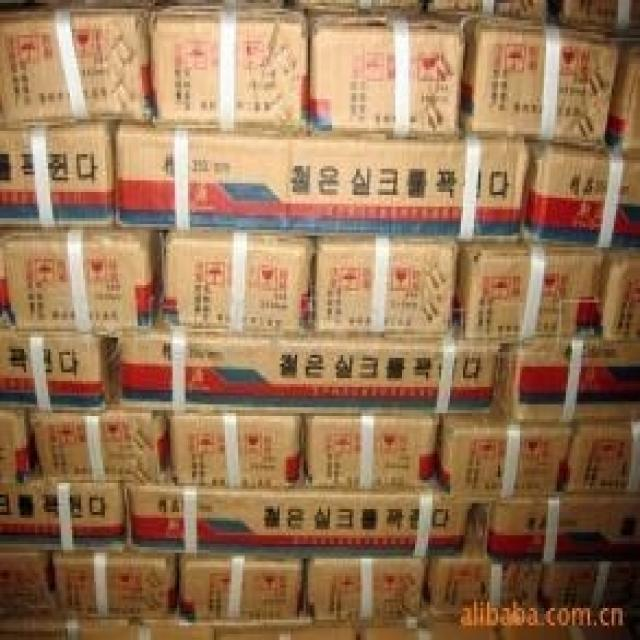box: (111, 122, 535, 247), (122, 471, 470, 561), (116, 337, 498, 416), (459, 17, 620, 148), (304, 9, 465, 137), (146, 3, 310, 128), (151, 227, 315, 343), (0, 9, 159, 128), (0, 227, 162, 335), (435, 413, 638, 497), (310, 236, 461, 343), (454, 239, 607, 343), (489, 340, 640, 425), (520, 143, 640, 247), (0, 122, 114, 230), (461, 497, 640, 564), (28, 413, 173, 486), (304, 413, 435, 489), (166, 413, 301, 486), (0, 329, 116, 413), (50, 553, 183, 623), (177, 553, 304, 625), (0, 483, 125, 553), (301, 556, 428, 620), (426, 559, 544, 614), (542, 564, 638, 623), (603, 41, 640, 157), (594, 247, 638, 340), (0, 550, 57, 620), (0, 407, 42, 483)
